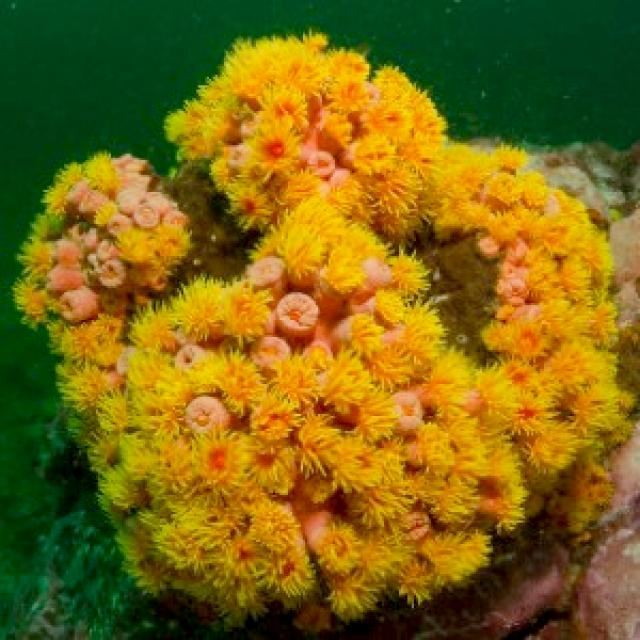Coral: (12, 31, 639, 619)
